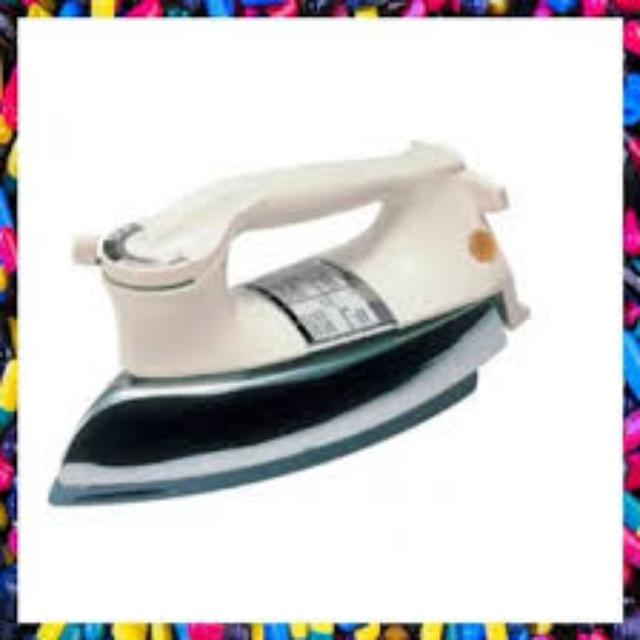Clothes-Iron: (73, 137, 493, 513)
